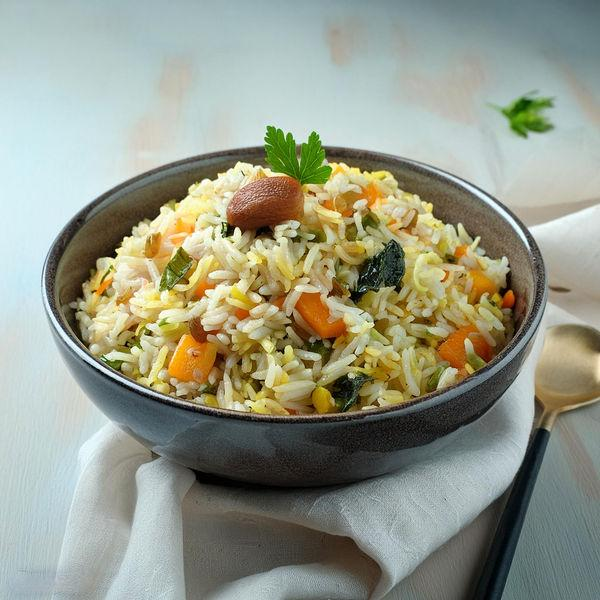veg-pulao: (94, 153, 542, 438)
